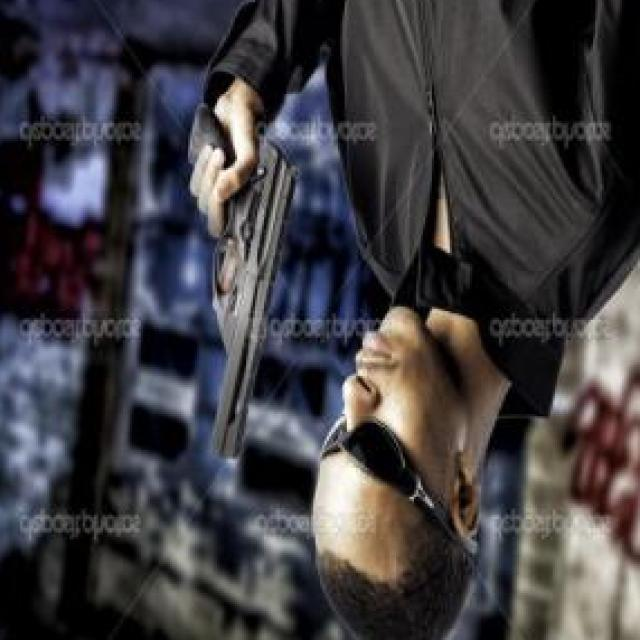pistol: (183, 113, 314, 457)
